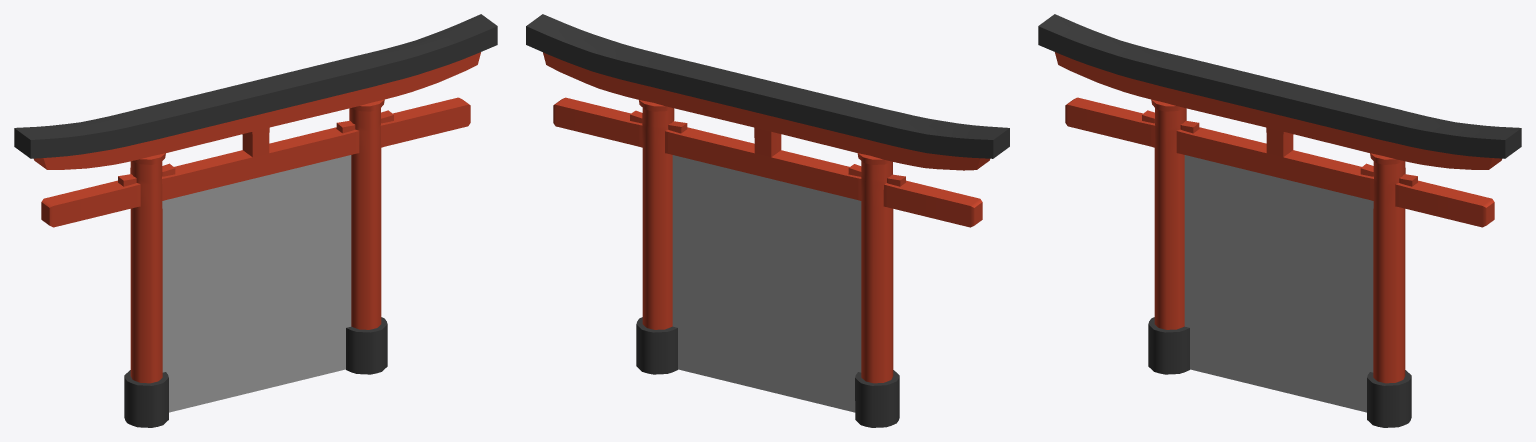
The model's file is ToriiPortal.fbx.
3 views of the same model, side by side, from view 1: azimuth 30°, elevation 25°; view 2: azimuth 150°, elevation 25°; view 3: azimuth 330°, elevation 25° (orthographic).
Visible parts, largest first — view 1: Portal1; view 2: Portal1; view 3: Portal1.
Part boxes in pixels (x1,y1,x2,y2): Portal1: [14, 14, 497, 427]; Portal1: [526, 14, 1009, 427]; Portal1: [1038, 14, 1521, 427].
Bounding box in the file's own units: 248 × 160 × 20.53.
